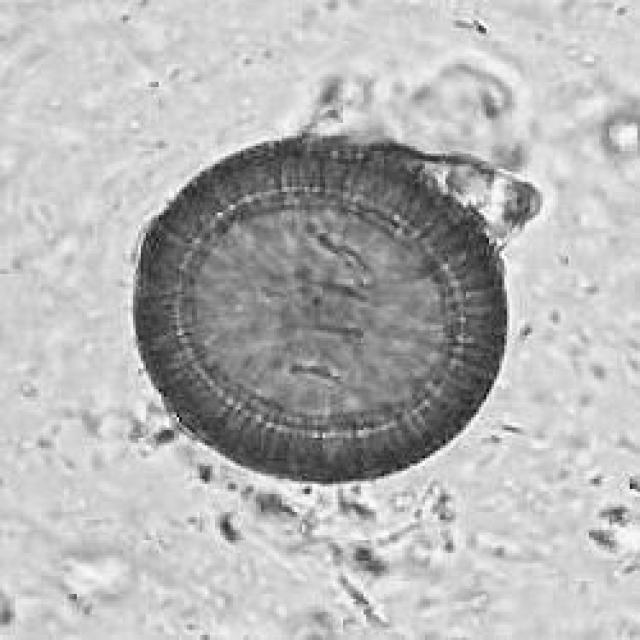Taenia Sp: (115, 128, 512, 489)
